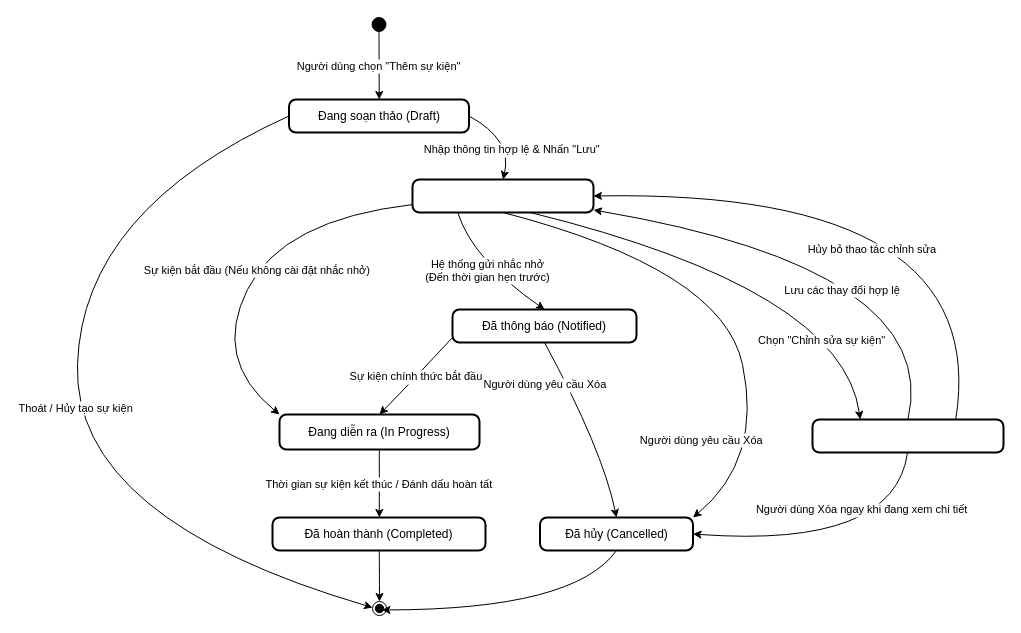
Image size: 1021x633. Some labels were removed from this diagram. Each missing label, with the centre of its shape:
"Đang chỉnh sửa (Editing)" belongs at point (907, 435).
"Đã lên lịch (Scheduled)" belongs at point (502, 195).
